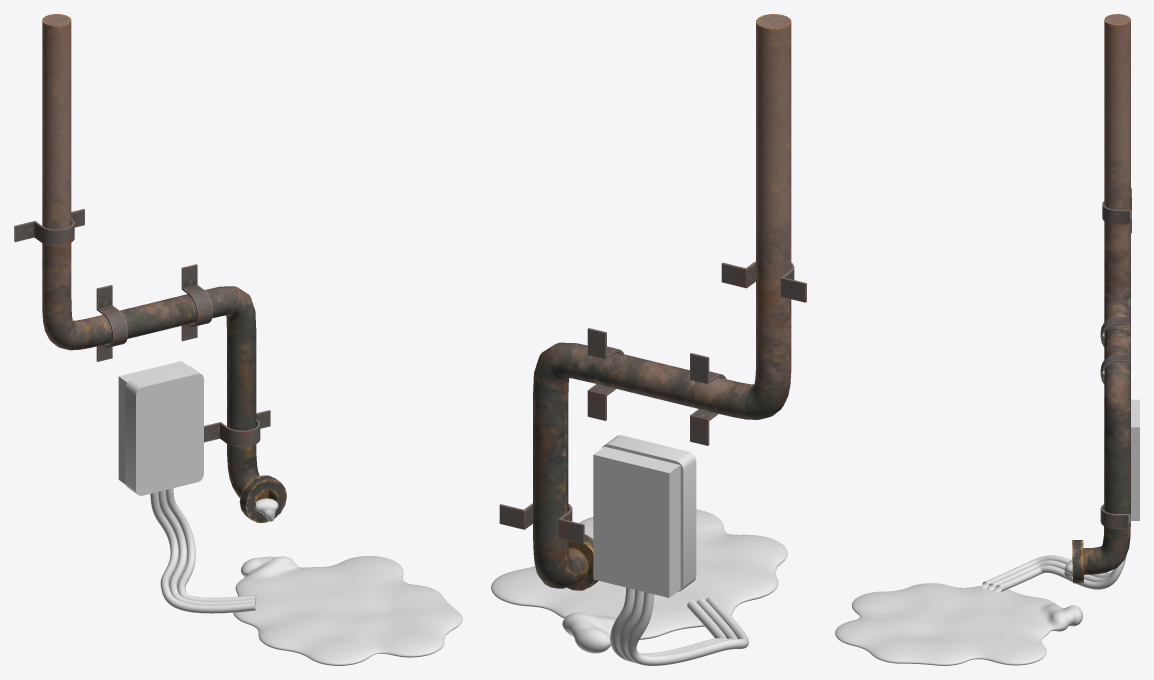
The model's file is Tuyaux.fbx.
3 views of the same model, side by side, from view 1: azimuth 30°, elevation 25°; view 2: azimuth 150°, elevation 25°; view 3: azimuth 270°, elevation 25° (orthographic). The views are drawn at different scales.
Visible parts, largest first — view 1: Cylinder.014, Mball.036, Cube.009, NurbsPath, Plane.004, Plane.003, Plane.007, Plane.006; view 2: Cylinder.014, Cube.009, Mball.036, NurbsPath, Plane.007, Plane.004, Plane.006, Plane.003; view 3: Mball.036, Cylinder.014, NurbsPath, Cube.009, Plane.006, Plane.007.
Boxes of the visible parts, x1=… form: Cylinder.014: x1=42, y1=14, x2=286, y2=522; Mball.036: x1=233, y1=498, x2=462, y2=665; Cube.009: x1=118, y1=361, x2=203, y2=495; NurbsPath: x1=150, y1=488, x2=256, y2=613; Plane.004: x1=181, y1=264, x2=212, y2=341; Plane.003: x1=96, y1=285, x2=128, y2=361; Plane.007: x1=14, y1=209, x2=84, y2=245; Plane.006: x1=204, y1=410, x2=270, y2=446; Cylinder.014: x1=533, y1=14, x2=791, y2=590; Cube.009: x1=593, y1=435, x2=696, y2=597; Mball.036: x1=491, y1=509, x2=787, y2=653; NurbsPath: x1=610, y1=587, x2=748, y2=665; Plane.007: x1=721, y1=261, x2=806, y2=302; Plane.004: x1=587, y1=328, x2=623, y2=420; Plane.006: x1=499, y1=503, x2=584, y2=544; Plane.003: x1=690, y1=353, x2=726, y2=445; Mball.036: x1=835, y1=559, x2=1082, y2=665; Cylinder.014: x1=1072, y1=14, x2=1130, y2=583; NurbsPath: x1=982, y1=555, x2=1126, y2=592; Cube.009: x1=1104, y1=398, x2=1139, y2=520; Plane.006: x1=1100, y1=504, x2=1130, y2=537; Plane.007: x1=1102, y1=188, x2=1131, y2=233.
Size of the model in its own units: 55.13 by 95.57 by 50.02.
Materials: 1 (1 with a texture image).
